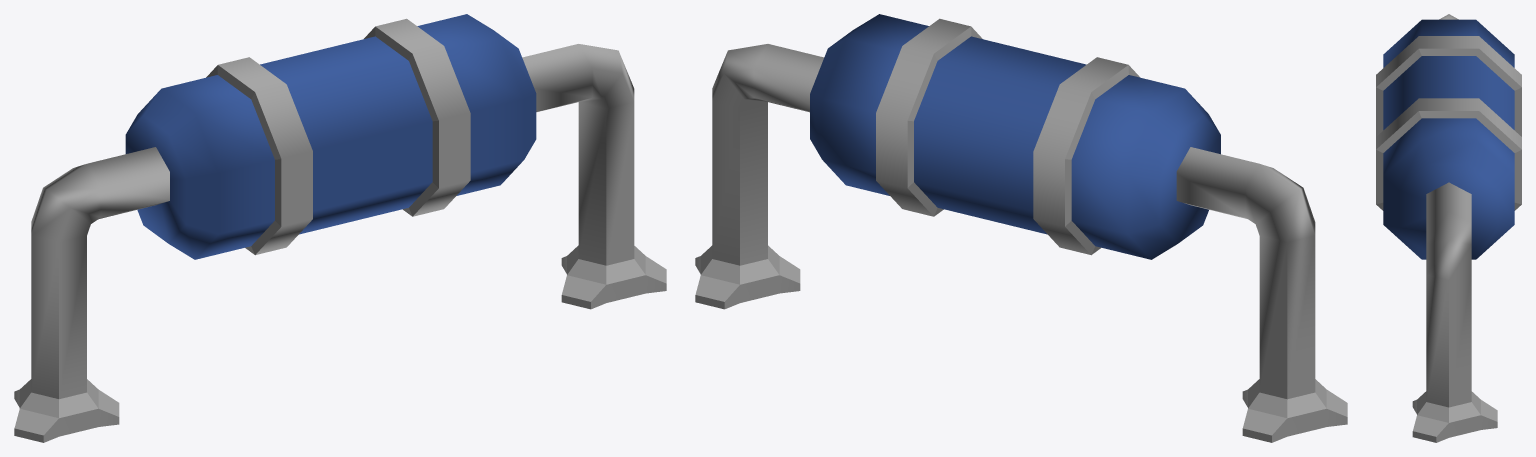
File: Hangar_PropTank_01.fbx
3 views of the same model, side by side, from view 1: azimuth 30°, elevation 25°; view 2: azimuth 150°, elevation 25°; view 3: azimuth 270°, elevation 25° (orthographic). The views are drawn at different scales.
Visible parts, largest first — view 1: PropTank_01; view 2: PropTank_01; view 3: PropTank_01.
Boxes of the visible parts, x1,y1,x2,y2 form: PropTank_01: [14, 14, 666, 442]; PropTank_01: [695, 14, 1347, 442]; PropTank_01: [1376, 14, 1521, 442].
Bounding box in the file's own units: 102 × 44.17 × 24.37.
